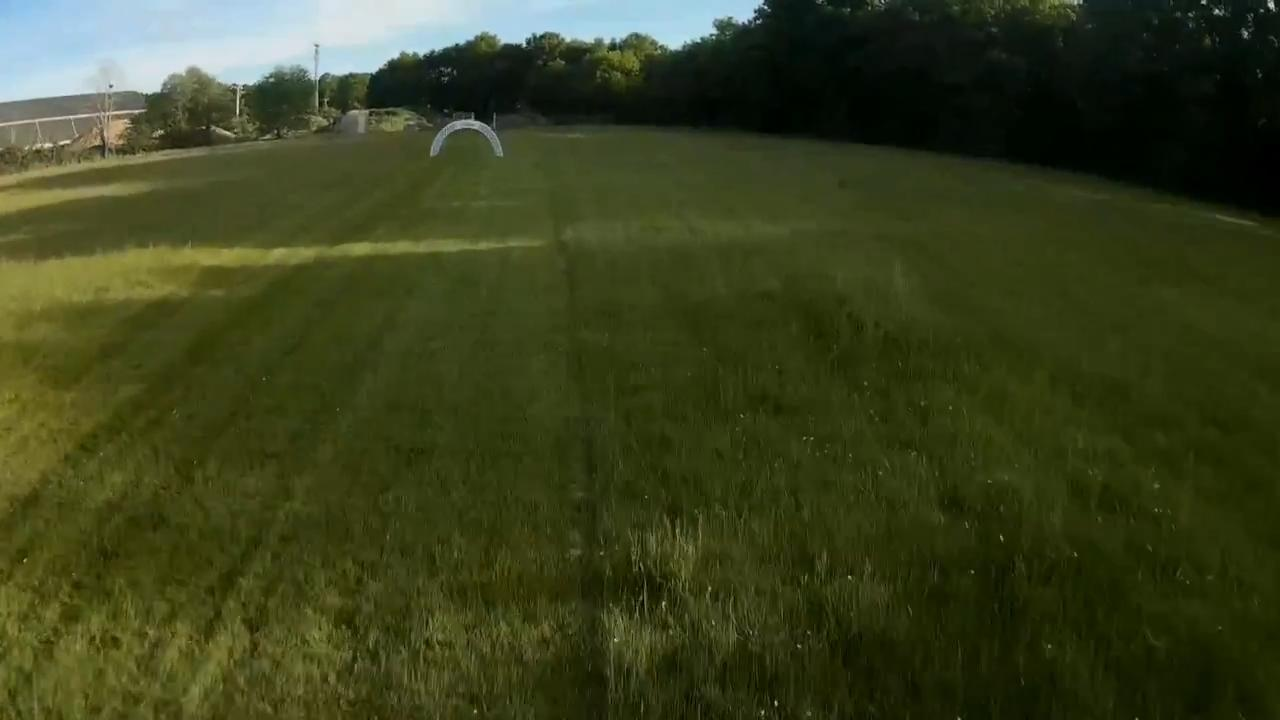gate: (428, 119, 504, 160)
